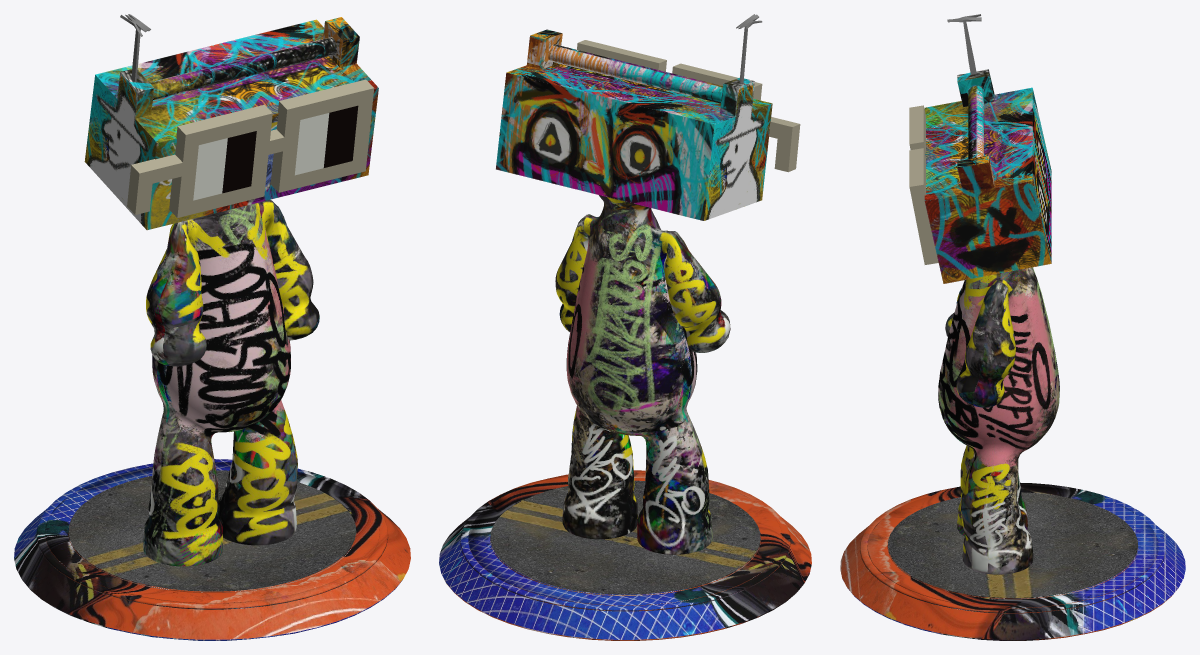
The picture shows the model from 3 angles, left to right: view 1: azimuth 30°, elevation 25°; view 2: azimuth 150°, elevation 25°; view 3: azimuth 270°, elevation 25°; orthographic projection. The views are drawn at different scales.
Visible parts, largest first — view 1: BBody; view 2: BBody; view 3: BBody.
Boxes of the visible parts, x1=… form: BBody: x1=14, y1=14, x2=410, y2=640; BBody: x1=439, y1=14, x2=811, y2=640; BBody: x1=840, y1=14, x2=1185, y2=640.
Size of the model in its own units: 1.45 by 2.34 by 1.45.
6 materials, 5 textured.
